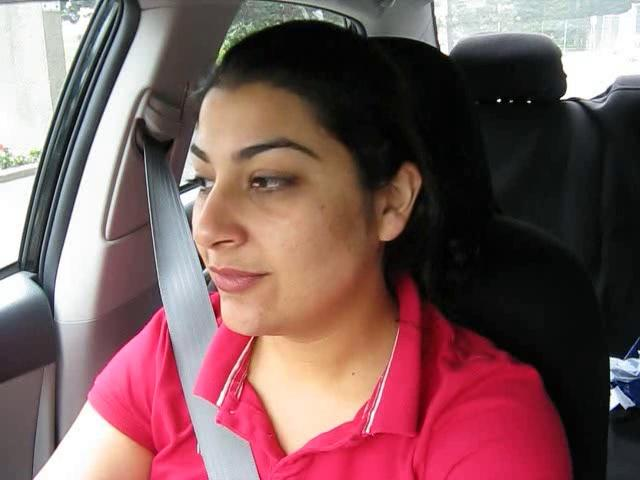no_yawn: (195, 252, 282, 303)
open_eyeL: (187, 166, 220, 198)
open_eyeR: (232, 161, 313, 205)
